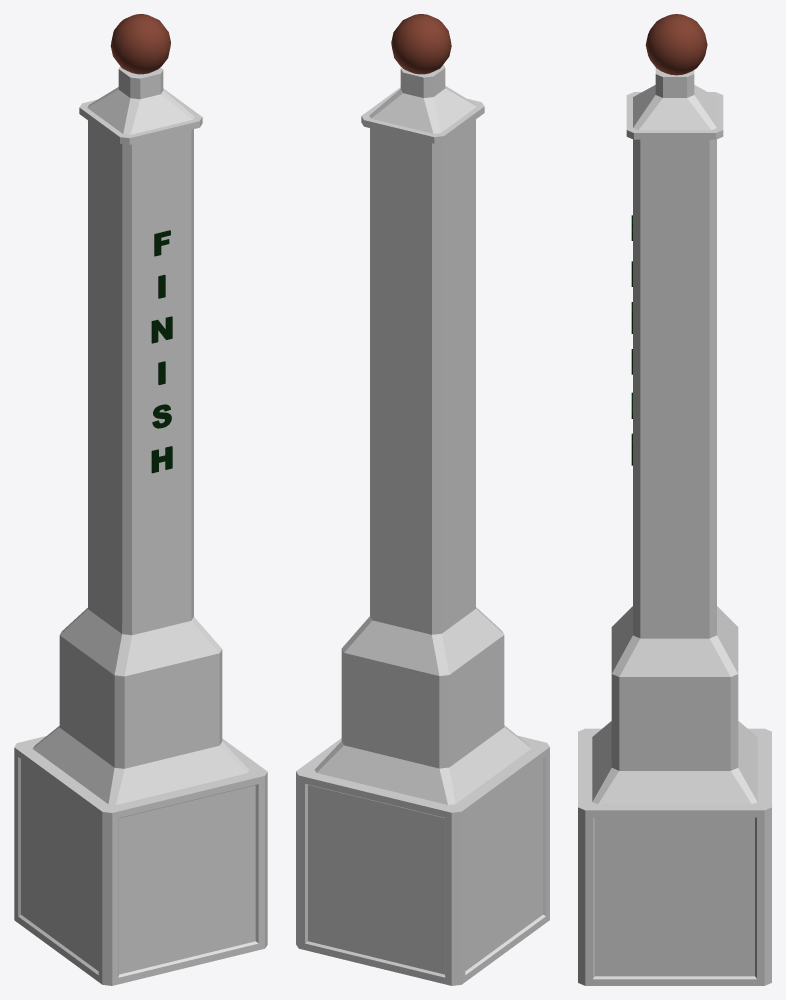
Rendered from Finish.fbx.
3 views of the same model, side by side, from view 1: azimuth 30°, elevation 25°; view 2: azimuth 150°, elevation 25°; view 3: azimuth 270°, elevation 25° (orthographic).
Parts seen in each view (by area): view 1: FINISH; view 2: FINISH; view 3: FINISH.
Boxes of the visible parts, bbox=[...] form: FINISH: bbox=[14, 14, 267, 985]; FINISH: bbox=[296, 14, 549, 985]; FINISH: bbox=[578, 14, 771, 985].
Size of the model in its own units: 100 by 529 by 100.
